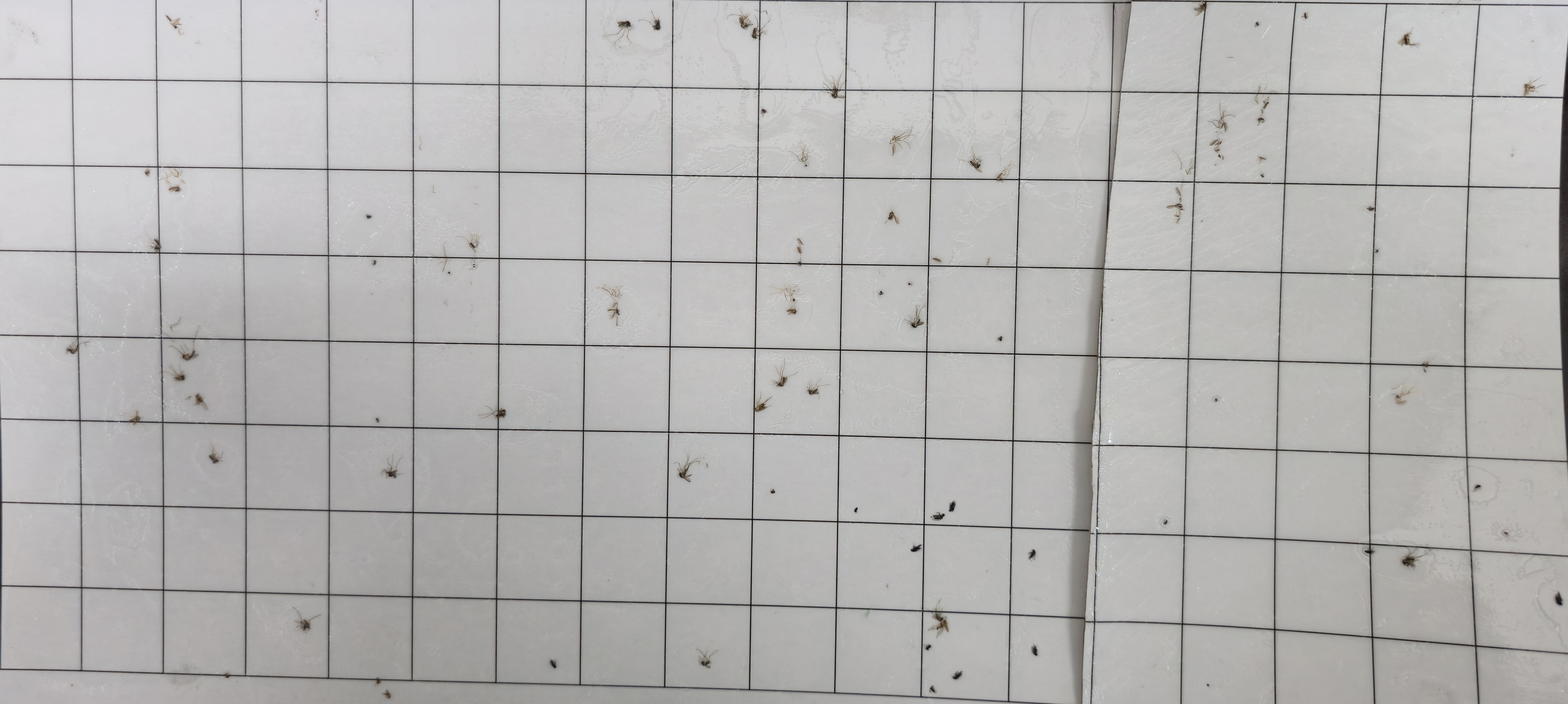test: (928, 599, 950, 637), (774, 356, 798, 390), (676, 455, 697, 483), (162, 12, 186, 36), (887, 133, 910, 156), (1520, 76, 1543, 98), (1401, 549, 1424, 570), (697, 646, 717, 670), (906, 305, 925, 330), (826, 81, 847, 102), (176, 344, 200, 362), (753, 393, 773, 413), (381, 462, 401, 480), (736, 13, 754, 32), (192, 393, 209, 413), (168, 366, 187, 383), (1215, 112, 1231, 132), (1392, 389, 1409, 406), (65, 342, 84, 357), (606, 306, 623, 322), (967, 157, 984, 173), (1191, 1, 1209, 16), (646, 16, 662, 32), (149, 237, 164, 254), (616, 19, 632, 34), (1399, 31, 1413, 48), (489, 406, 507, 419), (1167, 201, 1185, 214), (996, 167, 1010, 183), (129, 411, 142, 428), (1553, 588, 1564, 608), (298, 617, 312, 632), (208, 453, 223, 465), (908, 542, 923, 554), (930, 510, 946, 521), (807, 384, 820, 396), (750, 26, 762, 39), (1026, 548, 1037, 562), (1363, 547, 1378, 557), (886, 209, 898, 221), (168, 184, 183, 193), (948, 499, 957, 514), (1030, 644, 1039, 659), (468, 240, 480, 250), (951, 670, 963, 680), (788, 305, 798, 317), (1261, 98, 1270, 111), (373, 676, 382, 687), (1366, 204, 1377, 213), (550, 659, 558, 670), (925, 643, 934, 652), (929, 685, 938, 694), (223, 672, 233, 680), (384, 690, 392, 700), (1420, 361, 1430, 369), (796, 246, 804, 256), (932, 257, 943, 264), (1301, 12, 1310, 20), (1257, 115, 1265, 124), (852, 506, 860, 514), (1162, 518, 1170, 526), (1253, 20, 1261, 28), (760, 107, 768, 115), (144, 168, 151, 177), (1475, 482, 1482, 491), (365, 214, 373, 221), (1258, 155, 1266, 162), (997, 335, 1004, 343), (879, 289, 886, 297), (1213, 397, 1220, 404), (372, 259, 378, 267), (771, 487, 777, 495), (906, 282, 914, 288), (375, 417, 381, 424), (1205, 682, 1211, 689), (1503, 530, 1509, 537), (1374, 247, 1380, 254), (796, 261, 803, 267), (446, 270, 452, 276), (471, 263, 477, 269), (1260, 173, 1265, 178)
